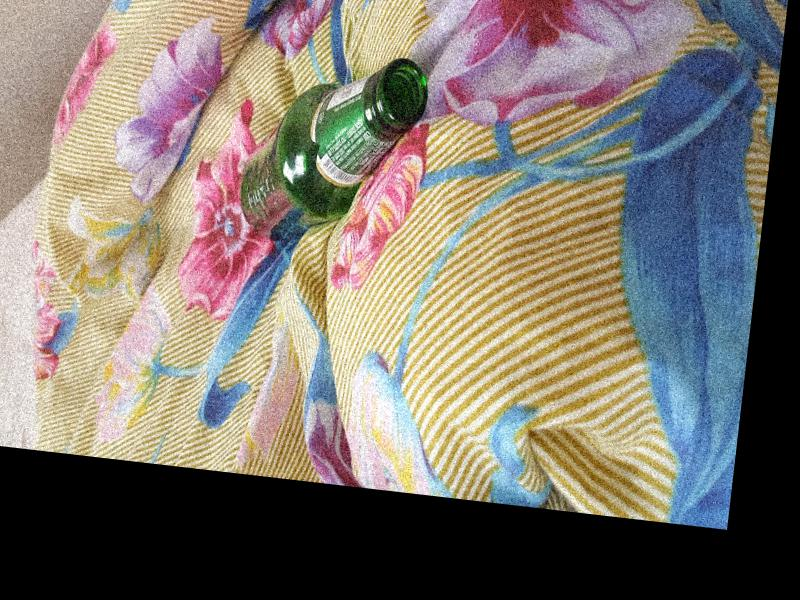Beer: (234, 39, 434, 256)
